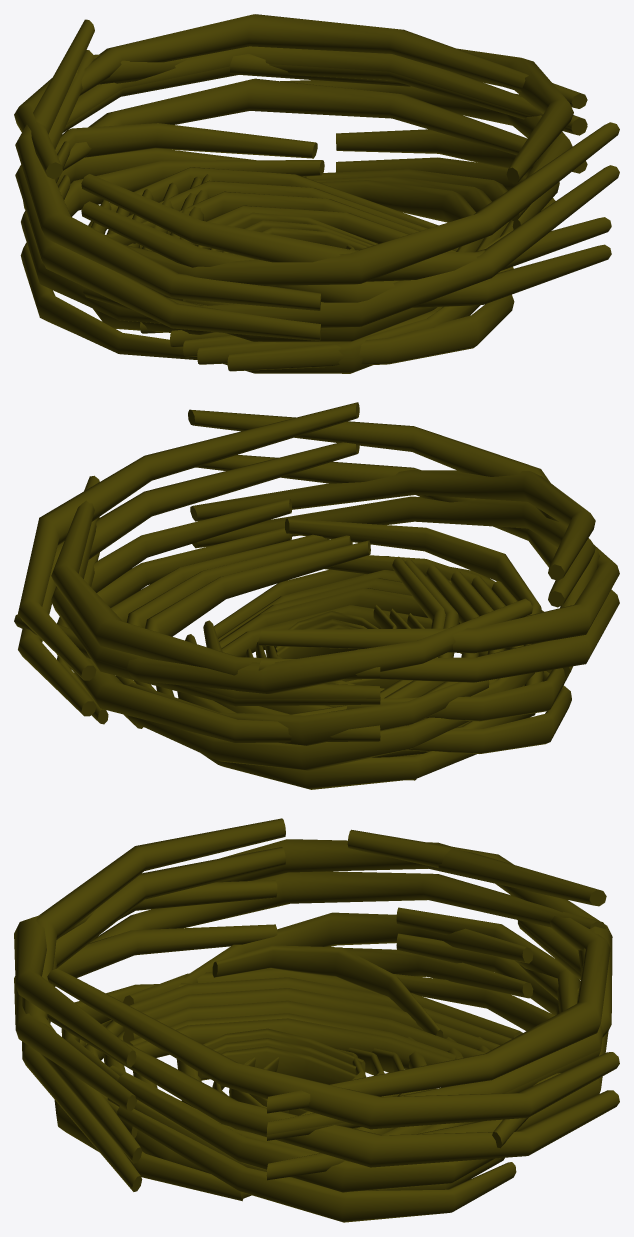
The model's file is nest1.glb.
3 renders of one model, top to bottom at view 1: azimuth 30°, elevation 25°; view 2: azimuth 150°, elevation 25°; view 3: azimuth 270°, elevation 25°, orthographic. The views are drawn at different scales.
Parts seen in each view (by area): view 1: sweep24, sweep21, sweep6, sweep23, sweep22, sweep17, sweep10, sweep9, sweep14, sweep29, sweep13, sweep25 (+25 smaller); view 2: sweep20, sweep22, sweep25, sweep15, sweep23, sweep9, sweep24, sweep21, sweep4, sweep6, sweep10, sweep13 (+29 smaller); view 3: sweep20, sweep15, sweep10, sweep24, sweep5, sweep22, sweep9, sweep17, sweep12, sweep23, sweep21, sweep18 (+23 smaller).
Boxes of the visible parts, bbox=[...] form: sweep24: bbox=[79, 14, 587, 108]; sweep21: bbox=[125, 122, 619, 285]; sweep6: bbox=[63, 78, 587, 173]; sweep23: bbox=[15, 19, 321, 310]; sweep22: bbox=[81, 174, 611, 281]; sweep17: bbox=[83, 165, 619, 327]; sweep10: bbox=[15, 50, 321, 341]; sweep9: bbox=[81, 201, 611, 307]; sweep14: bbox=[66, 46, 587, 133]; sweep29: bbox=[227, 294, 514, 371]; sweep13: bbox=[55, 123, 317, 158]; sweep25: bbox=[14, 54, 410, 178]; sweep20: bbox=[18, 402, 359, 680]; sweep22: bbox=[190, 470, 595, 580]; sweep25: bbox=[14, 598, 532, 693]; sweep15: bbox=[18, 442, 359, 716]; sweep23: bbox=[258, 545, 619, 653]; sweep9: bbox=[192, 496, 595, 607]; sweep24: bbox=[51, 475, 380, 679]; sweep21: bbox=[188, 409, 599, 607]; sweep4: bbox=[128, 715, 469, 770]; sweep6: bbox=[57, 552, 380, 742]; sweep10: bbox=[258, 589, 619, 682]; sweep13: bbox=[128, 680, 489, 745]; sweep20: bbox=[47, 968, 619, 1129]; sweep15: bbox=[47, 1014, 619, 1167]; sweep10: bbox=[88, 871, 606, 943]; sweep24: bbox=[266, 916, 610, 1113]; sweep5: bbox=[117, 1106, 516, 1222]; sweep22: bbox=[22, 818, 285, 1163]; sweep9: bbox=[22, 847, 285, 1191]; sweep17: bbox=[14, 924, 277, 1111]; sweep12: bbox=[117, 1074, 494, 1192]; sweep23: bbox=[119, 839, 606, 919]; sweep21: bbox=[14, 880, 277, 1067]; sweep18: bbox=[184, 912, 533, 983].
Size of the model in its own units: 0.0695 by 0.0244 by 0.0659.
